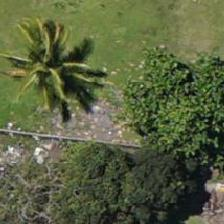coconut_tree: (6, 26, 96, 116)
